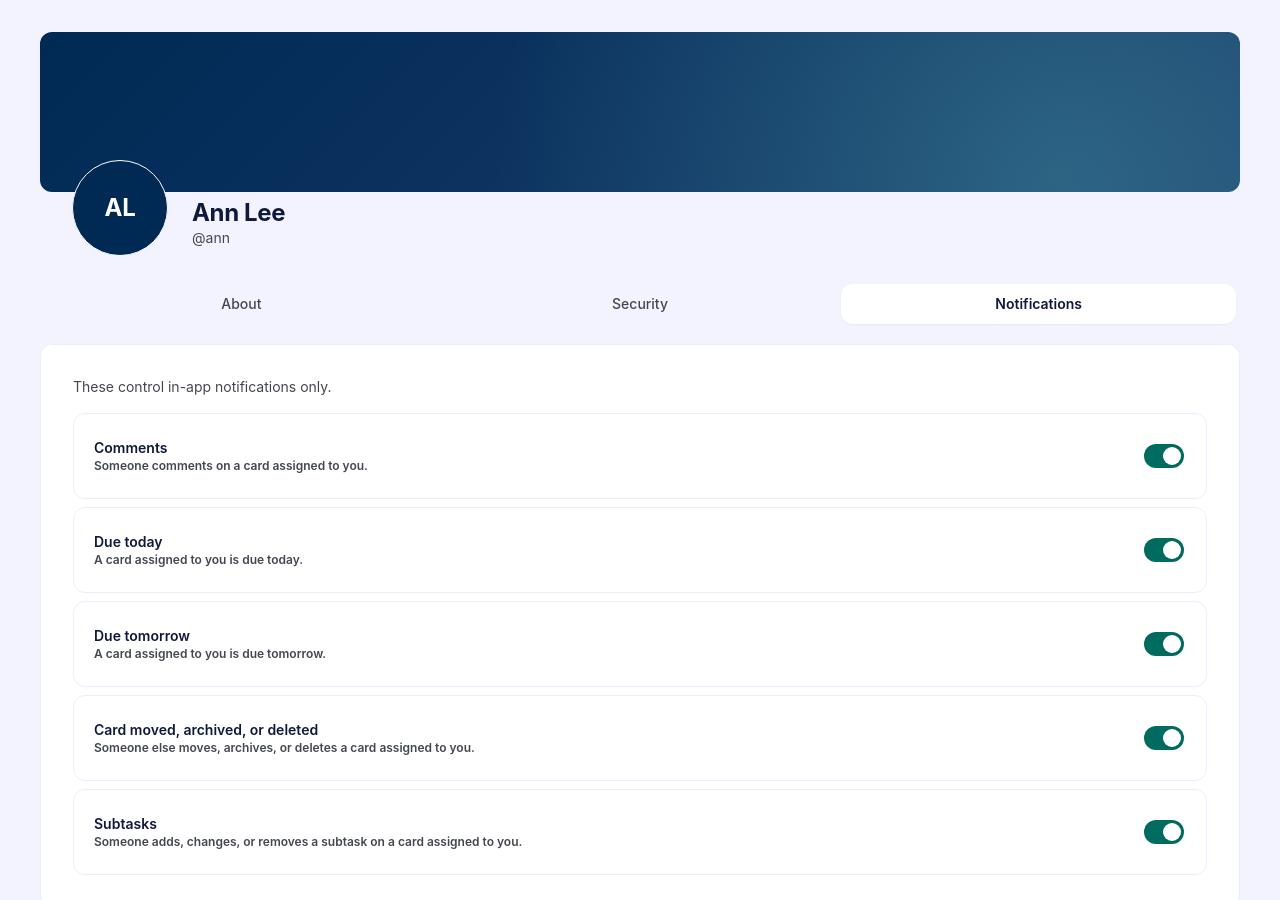
Scenario: Notifications tab (PRF-06) › saves a switch at once without a confirmation and shows Saved
The image size is (1280, 900).
What coordinates should you click on to do the following:
click the switch named "Due today"
I would click on:
 (1164, 550)
Its box is [1142, 528, 1186, 572].
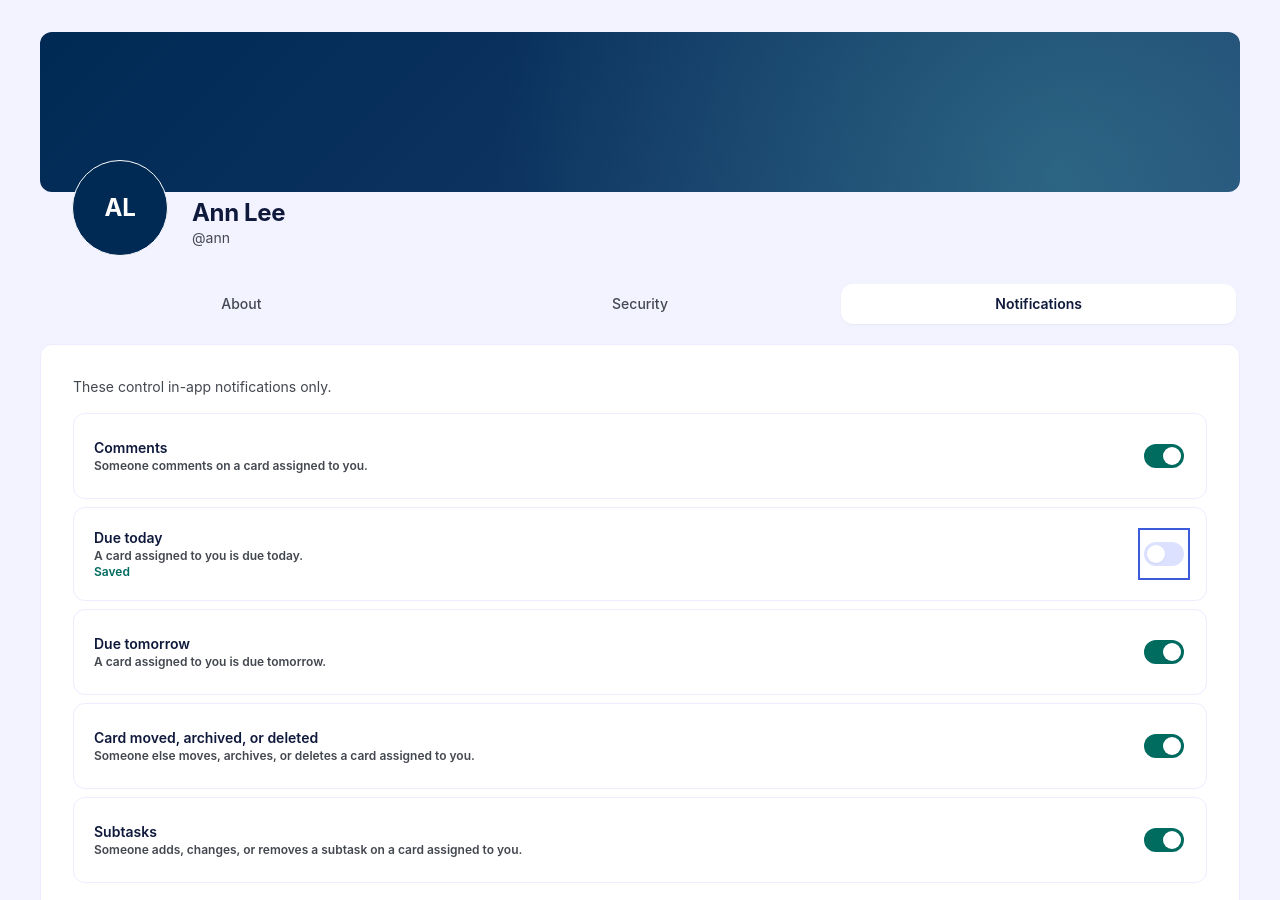
expect the text "Saved" is shown: met, box [94, 564, 130, 579]
